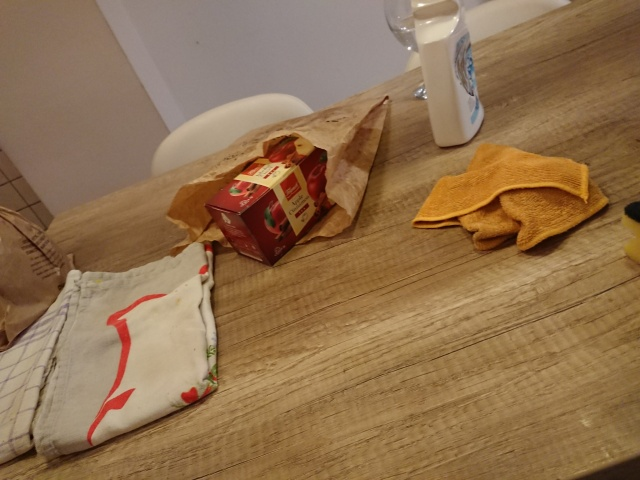Franck Apple Cinnamon Tea 60g: (200, 130, 354, 269)
